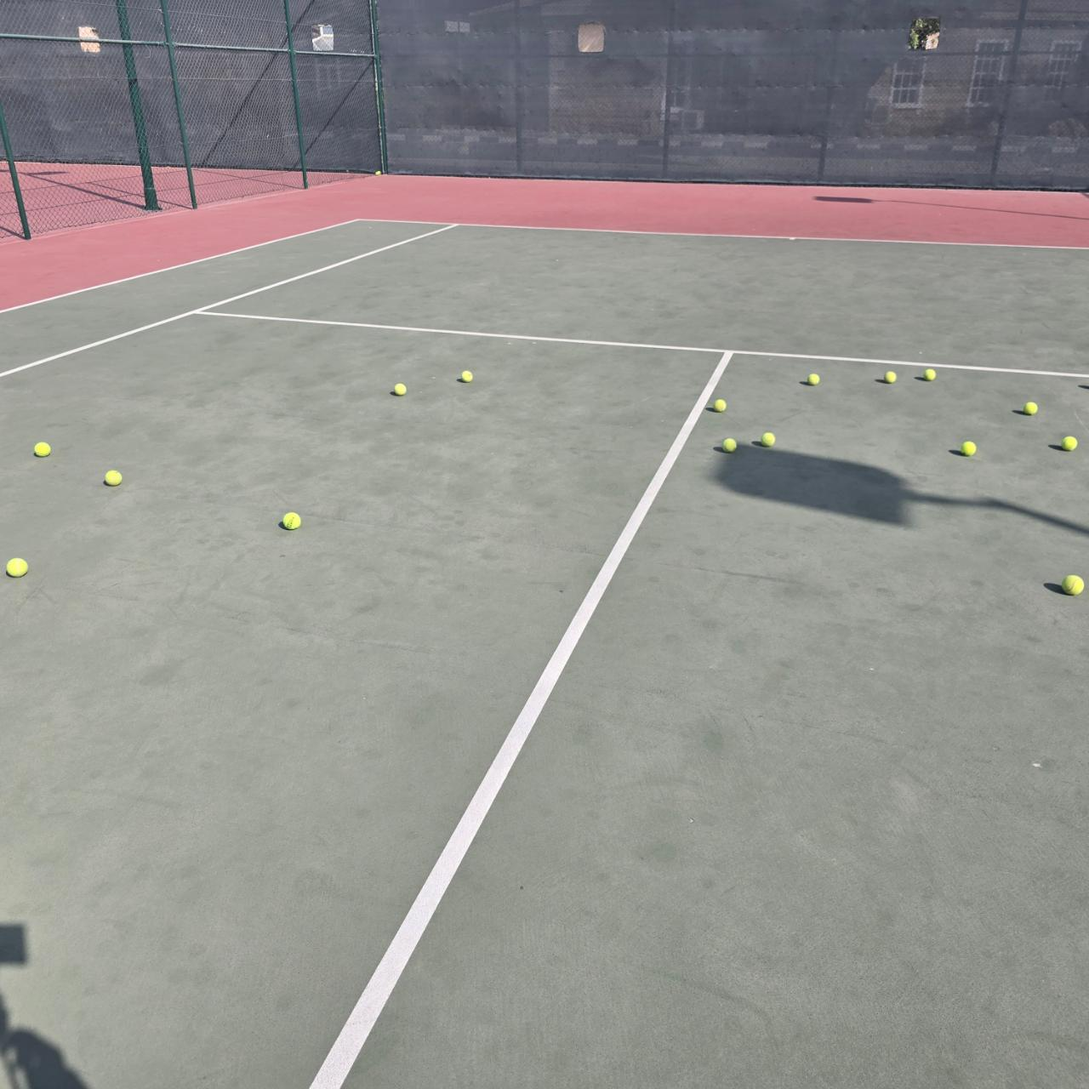tennis-ball: (1061, 572, 1084, 596), (4, 556, 28, 578), (280, 510, 301, 530), (102, 467, 123, 486), (32, 440, 51, 457), (960, 438, 977, 456), (711, 396, 727, 412), (760, 430, 775, 447), (391, 381, 407, 396), (1062, 434, 1077, 450), (721, 436, 736, 452), (1023, 399, 1038, 414), (458, 368, 473, 382), (922, 366, 937, 380), (806, 371, 820, 385), (884, 371, 898, 384), (375, 170, 381, 175)
